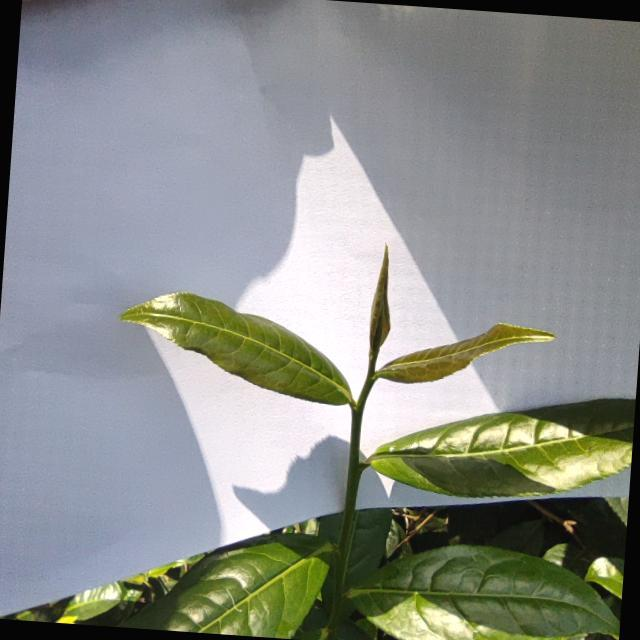Stem: (353, 410, 362, 426)
